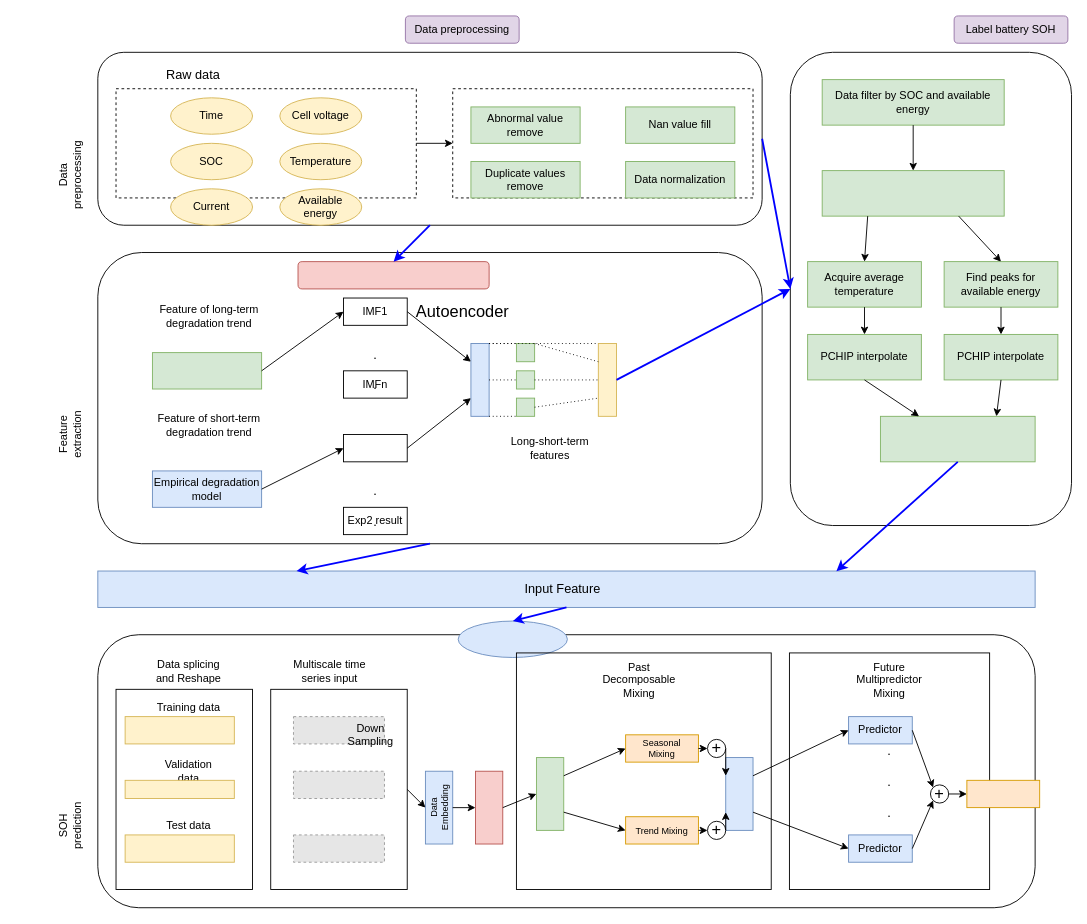
The diagram is 1087 pixels wide and 924 high, and some of its shapes have lost their labels. Grey dashed boxes stand in for pictures. The box of each missing label's shape, as (x1, y1, x2, y2) in pixels:
CEEMDAN decomposition: (152, 352, 262, 389)
Decomposition: (536, 757, 564, 830)
FEA-TimeMixer: (457, 620, 567, 657)
Feed Forward: (725, 757, 753, 830)
Frequency Enhanced Attention: (475, 770, 503, 844)
Lasso result: (343, 434, 407, 462)
Long-short-term features extraction: (297, 261, 489, 289)
Prediction SOH: (966, 779, 1040, 808)
Savitzky-Golay method smooth data: (821, 170, 1004, 216)
Solve value for generated hour-ts: (880, 415, 1035, 462)
